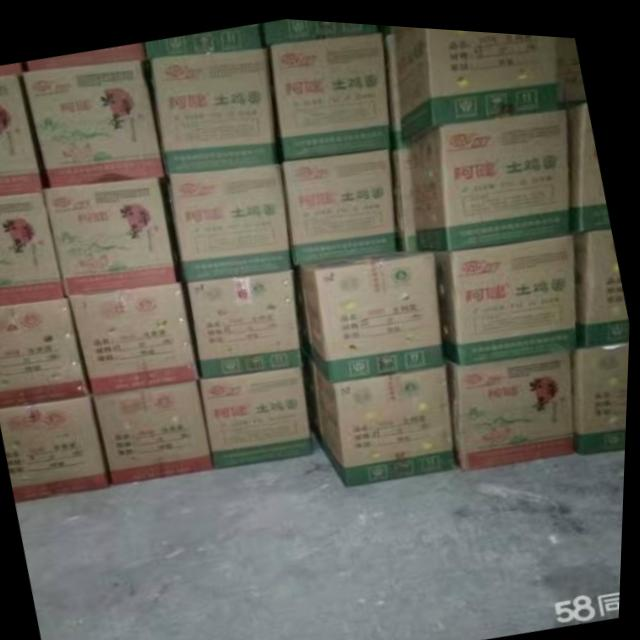box: (389, 100, 572, 246), (400, 21, 587, 134), (429, 225, 578, 358), (307, 356, 460, 481), (302, 244, 446, 376), (22, 57, 166, 186), (149, 44, 281, 170), (43, 174, 179, 295), (447, 342, 580, 463), (269, 26, 390, 157), (168, 160, 295, 280), (69, 279, 202, 393), (284, 142, 398, 261), (94, 378, 218, 483), (189, 266, 304, 376), (0, 393, 113, 502), (204, 363, 317, 465), (0, 296, 94, 408), (0, 190, 67, 305), (573, 331, 631, 446), (576, 220, 632, 338), (567, 94, 613, 225), (0, 74, 43, 195), (145, 19, 261, 54), (24, 40, 146, 70), (264, 15, 379, 41), (0, 61, 25, 76)
